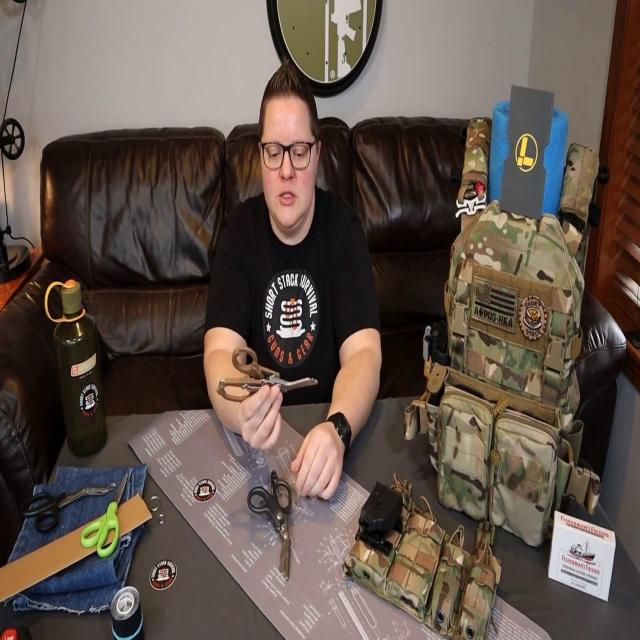scissor: (216, 346, 318, 403), (20, 481, 116, 534), (247, 470, 292, 582), (81, 471, 129, 558)
